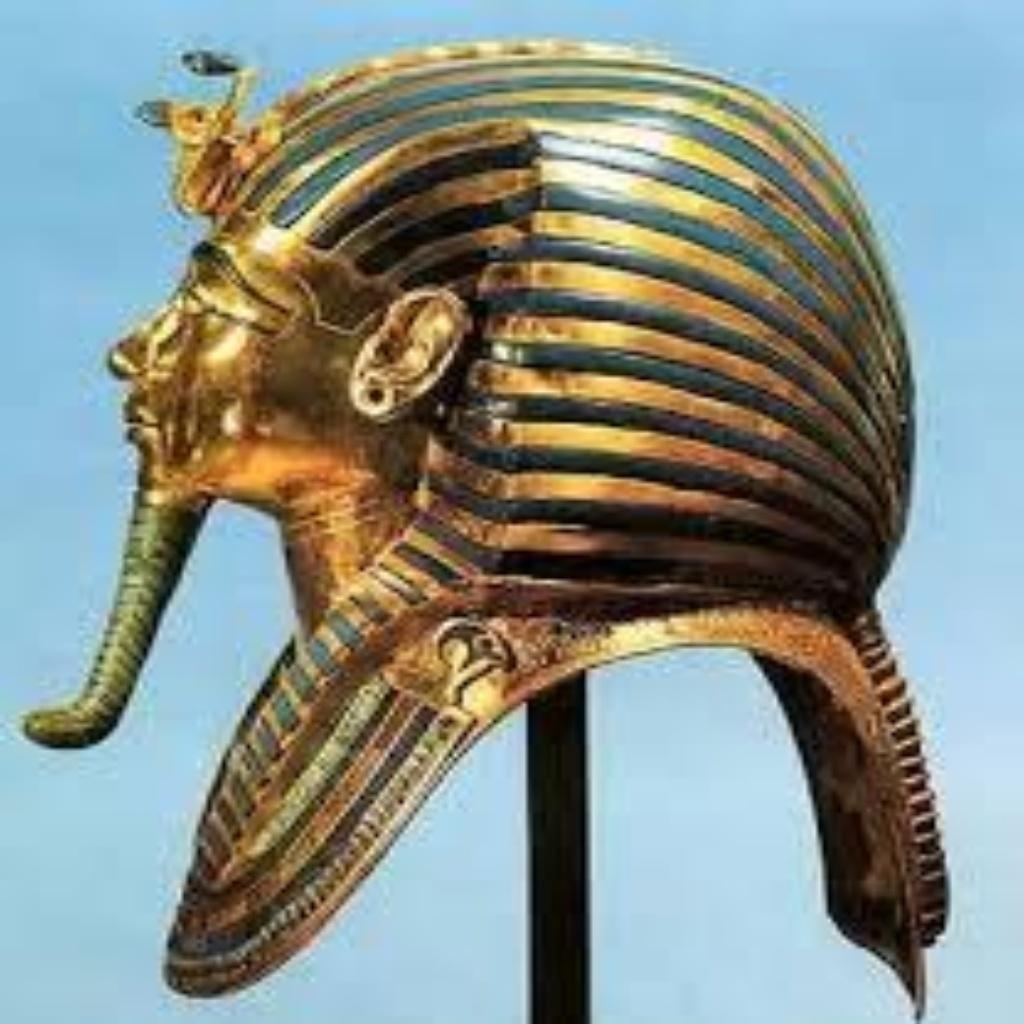Mask of Tutankhamun: (15, 30, 950, 1016)
